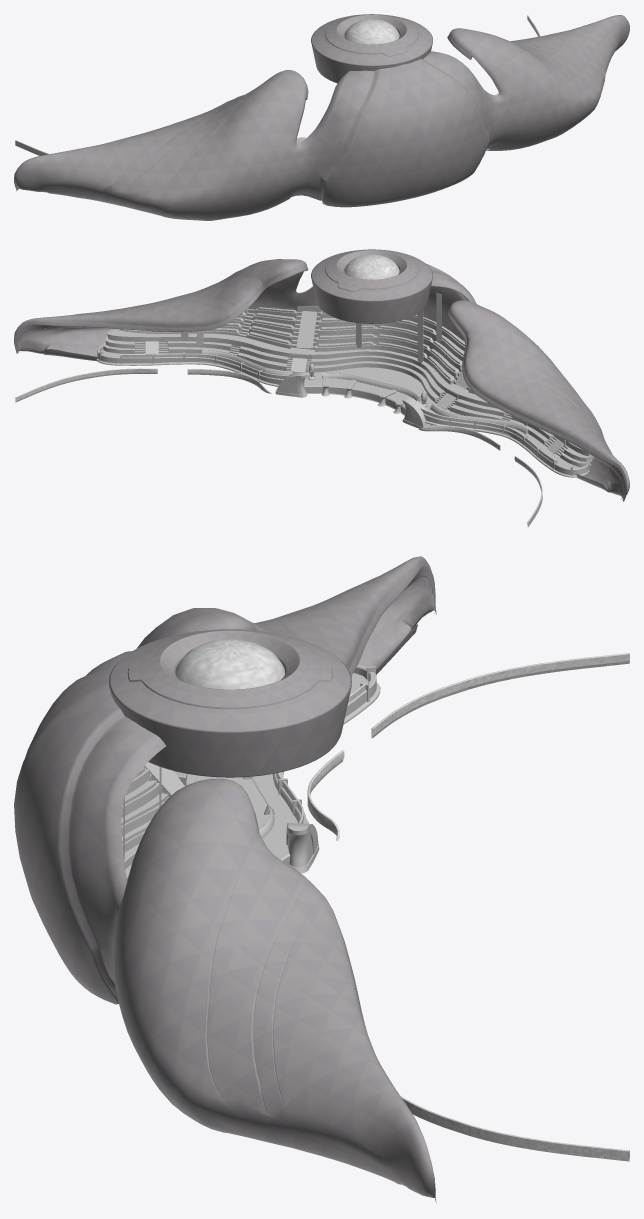
File: pref_Area_Grandstand_beta_01_lv3.fbx
3 views of the same model, one above another, from view 1: azimuth 30°, elevation 25°; view 2: azimuth 150°, elevation 25°; view 3: azimuth 270°, elevation 25° (orthographic). The views are drawn at different scales.
Visible parts, largest first — view 1: pref_sm_beach_techstadium01_c_lv3, pref_sm_beach_techstadium01_b_lv3, pref_sm_beach_techstadium01_a_lv3, pref_sm_beach_techstadium02_lv3; view 2: pref_sm_beach_techstadium01_c_lv3, pref_sm_beach_techstadium01_a_lv3, pref_sm_beach_techgrandstand01_b_lv3, pref_sm_beach_techstadium02_lv3, pref_sm_beach_techgrandstand01_c_lv3, pref_sm_beach_techstadium06_bottom_a_lv3, pref_sm_beach_techgrandstand01_a_lv3, sm_beach_techglass_north_a_lv3, pref_sm_beach_techstadium06_bottom_floor_lv3, pref_sm_beach_techstadium01_b_lv3, pref_sm_beach_techstadium06_bottom_b_lv3, pref_sm_beach_techstadium06_bottom_c_lv3 (+3 smaller); view 3: pref_sm_beach_techstadium01_a_lv3, pref_sm_beach_techstadium01_b_lv3, pref_sm_beach_techstadium02_lv3, pref_sm_beach_techstadium01_c_lv3, sm_beach_techglass_north_a_lv3, pref_sm_beach_techgrandstand01_b_lv3, pref_sm_beach_techstadium06_bottom_floor_lv3, pref_sm_beach_techstadium06_bottom_a_lv3, pref_sm_beach_techstadium06_bottom_c_lv3, sm_beach_techglass_north_b_lv3.
Part boxes in pixels (bbox=[...]): pref_sm_beach_techstadium01_c_lv3: bbox=[14, 70, 308, 220]; pref_sm_beach_techstadium01_b_lv3: bbox=[291, 51, 508, 207]; pref_sm_beach_techstadium01_a_lv3: bbox=[447, 15, 629, 150]; pref_sm_beach_techstadium02_lv3: bbox=[311, 14, 432, 83]; pref_sm_beach_techstadium01_c_lv3: bbox=[447, 300, 629, 501]; pref_sm_beach_techstadium01_a_lv3: bbox=[14, 259, 308, 361]; pref_sm_beach_techgrandstand01_b_lv3: bbox=[311, 311, 465, 402]; pref_sm_beach_techstadium02_lv3: bbox=[311, 249, 432, 323]; pref_sm_beach_techgrandstand01_c_lv3: bbox=[103, 306, 320, 372]; pref_sm_beach_techstadium06_bottom_a_lv3: bbox=[275, 372, 432, 428]; pref_sm_beach_techgrandstand01_a_lv3: bbox=[435, 368, 594, 467]; sm_beach_techglass_north_a_lv3: bbox=[15, 353, 554, 526]; pref_sm_beach_techstadium06_bottom_floor_lv3: bbox=[100, 350, 580, 468]; pref_sm_beach_techstadium01_b_lv3: bbox=[291, 263, 476, 341]; pref_sm_beach_techstadium06_bottom_b_lv3: bbox=[96, 345, 283, 386]; pref_sm_beach_techstadium06_bottom_c_lv3: bbox=[423, 413, 589, 477]; pref_sm_beach_techstadium01_a_lv3: bbox=[114, 778, 436, 1202]; pref_sm_beach_techstadium01_b_lv3: bbox=[14, 651, 165, 1004]; pref_sm_beach_techstadium02_lv3: bbox=[108, 629, 351, 777]; pref_sm_beach_techstadium01_c_lv3: bbox=[137, 556, 436, 675]; sm_beach_techglass_north_a_lv3: bbox=[276, 653, 629, 1161]; pref_sm_beach_techgrandstand01_b_lv3: bbox=[121, 767, 169, 881]; pref_sm_beach_techstadium06_bottom_floor_lv3: bbox=[241, 673, 368, 849]; pref_sm_beach_techstadium06_bottom_a_lv3: bbox=[269, 823, 319, 873]; pref_sm_beach_techstadium06_bottom_c_lv3: bbox=[272, 665, 380, 823]; sm_beach_techglass_north_b_lv3: bbox=[307, 750, 344, 840].
Size of the model in its own units: 157 by 35.88 by 68.53.
